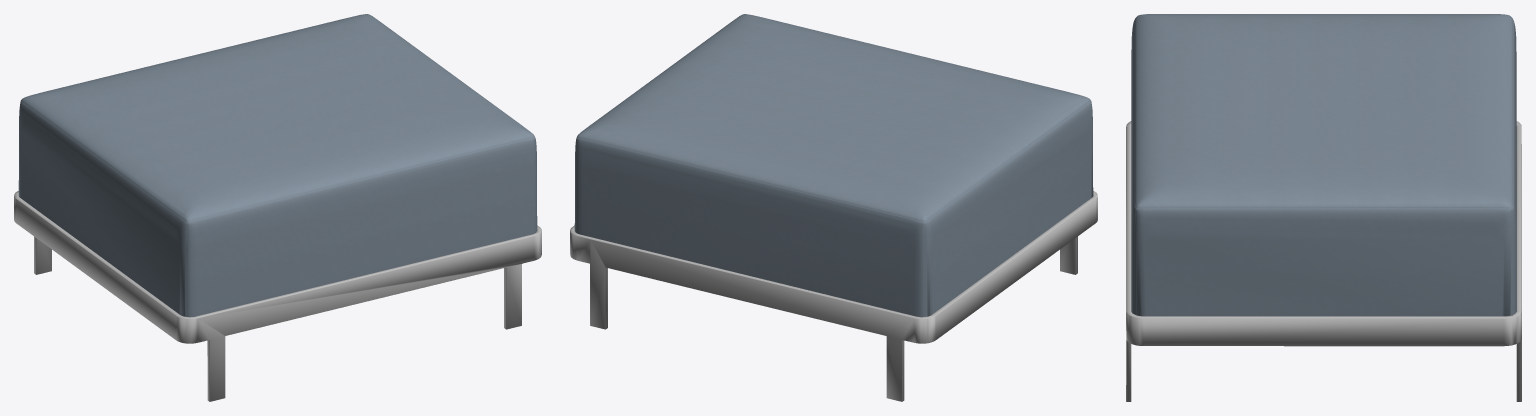
File: chairLowfbx.fbx
3 views of the same model, side by side, from view 1: azimuth 30°, elevation 25°; view 2: azimuth 150°, elevation 25°; view 3: azimuth 270°, elevation 25° (orthographic). The views are drawn at different scales.
Visible parts, largest first — view 1: ka_design_m4_pouf_obj; view 2: ka_design_m4_pouf_obj; view 3: ka_design_m4_pouf_obj.
Part boxes in pixels (left/top/right/bottom): ka_design_m4_pouf_obj: left=14, top=14, right=541, bottom=401; ka_design_m4_pouf_obj: left=570, top=14, right=1097, bottom=401; ka_design_m4_pouf_obj: left=1126, top=14, right=1521, bottom=401.
Bounding box in the file's own units: 9200 × 4649 × 7700.
2 materials, 1 textured.
